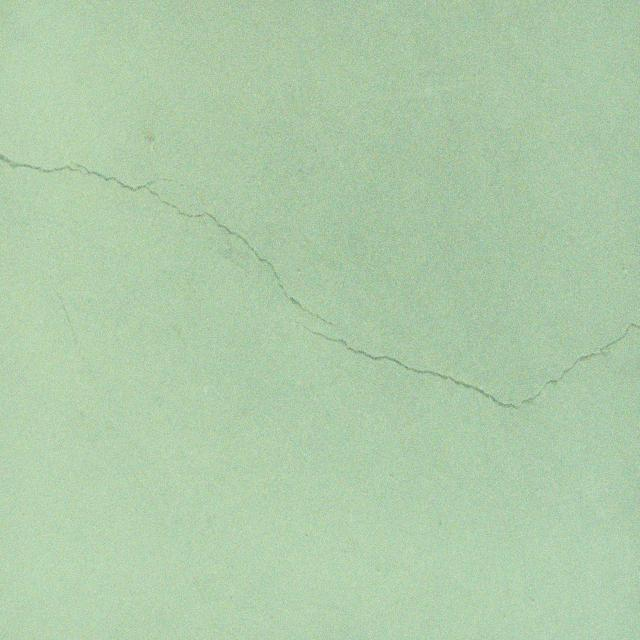crack: (0, 152, 343, 330), (280, 313, 640, 411)
